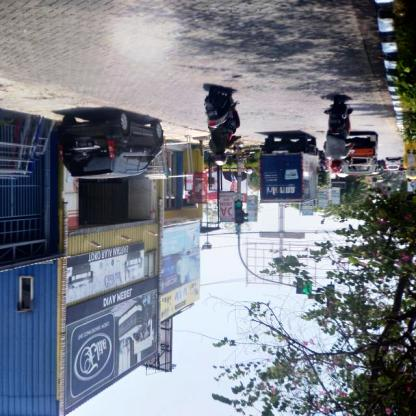Traffic Light -Green-: (235, 199, 243, 223)
